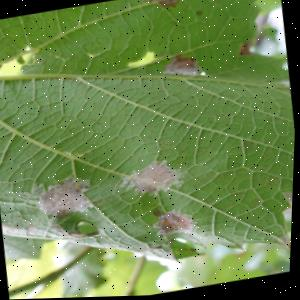Folha: (0, 0, 300, 295)
Fungo: (118, 158, 189, 203), (32, 175, 97, 223), (49, 217, 103, 248), (150, 208, 200, 241), (158, 53, 204, 84), (145, 0, 182, 14), (235, 43, 253, 59), (276, 236, 292, 251), (162, 250, 177, 263), (25, 224, 40, 235)
